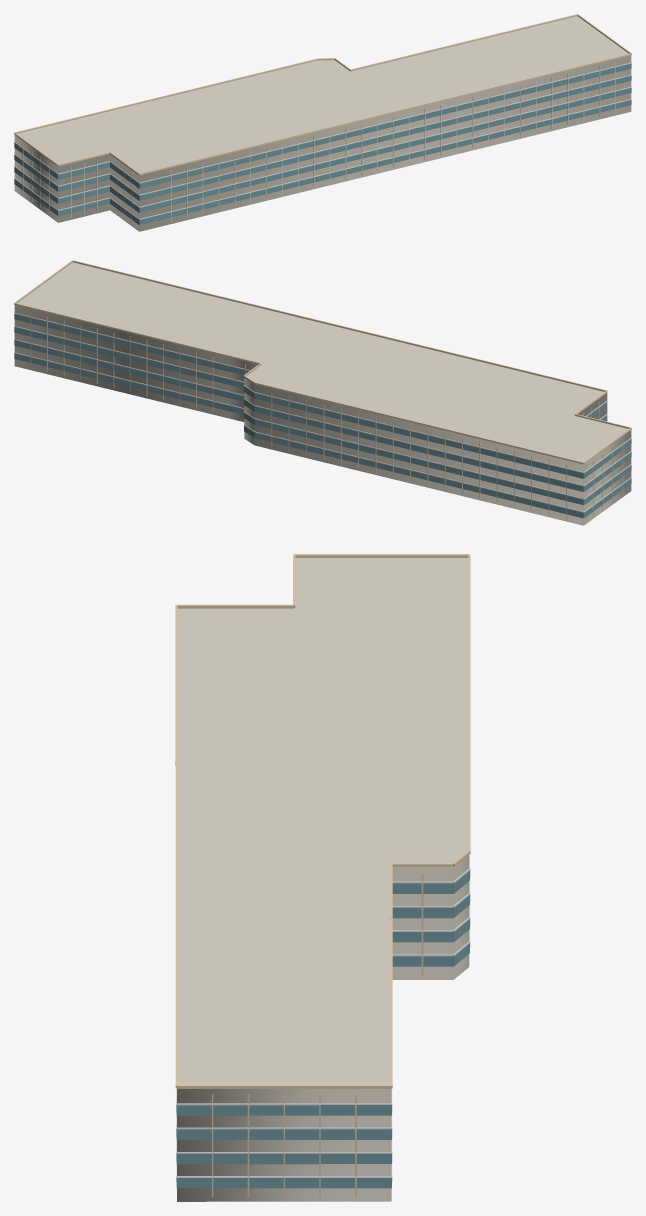
File: pacific-nsp.glb
3 renders of one model, top to bottom at view 1: azimuth 30°, elevation 25°; view 2: azimuth 150°, elevation 25°; view 3: azimuth 270°, elevation 25°, orthographic. The views are drawn at different scales.
Parts seen in each view (by area): view 1: NCR_pacific-nsp; view 2: NCR_pacific-nsp; view 3: NCR_pacific-nsp.
Part boxes in pixels (x1,y1,x2,y2): NCR_pacific-nsp: (14,14,631,231); NCR_pacific-nsp: (14,260,631,525); NCR_pacific-nsp: (175,554,470,1201).
Bounding box in the file's own units: 235 × 24 × 55.19.
